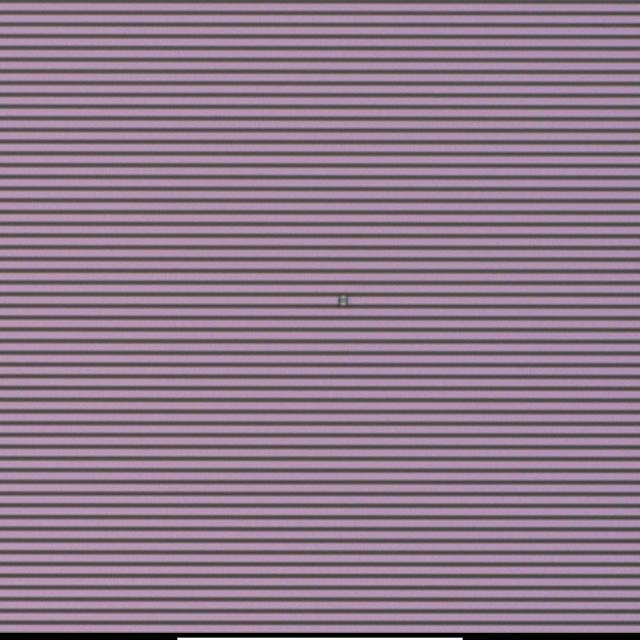03_intrusion: (332, 287, 355, 315)
